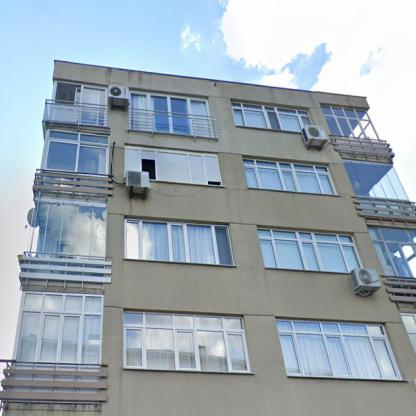window: (124, 310, 247, 371), (277, 320, 400, 379), (13, 292, 103, 364), (127, 219, 233, 265), (257, 229, 360, 270), (28, 203, 105, 257), (129, 90, 213, 137), (124, 147, 222, 185), (243, 159, 336, 195), (44, 129, 108, 174), (368, 226, 416, 277), (344, 162, 408, 200), (54, 81, 107, 125), (231, 103, 311, 131), (321, 105, 379, 139), (402, 314, 416, 356)
